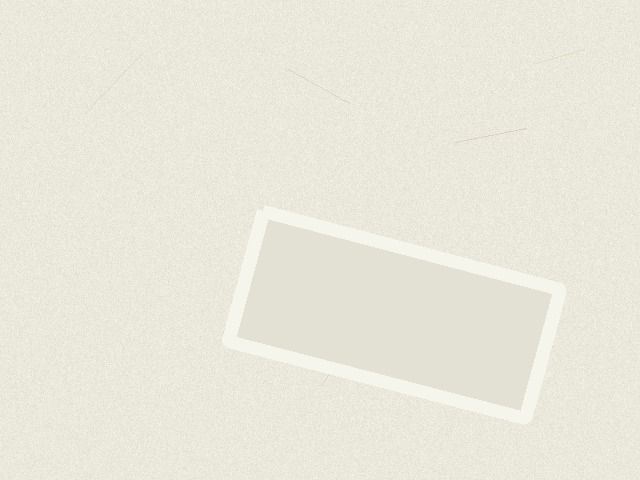parking_area: (228, 211, 560, 418)
